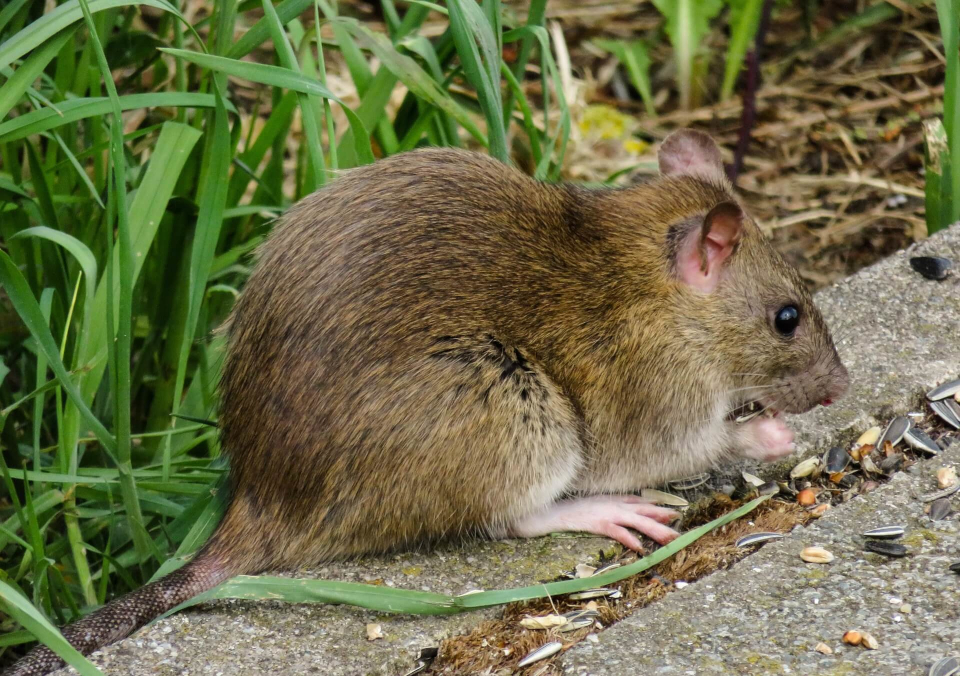rat: (202, 117, 864, 572)
